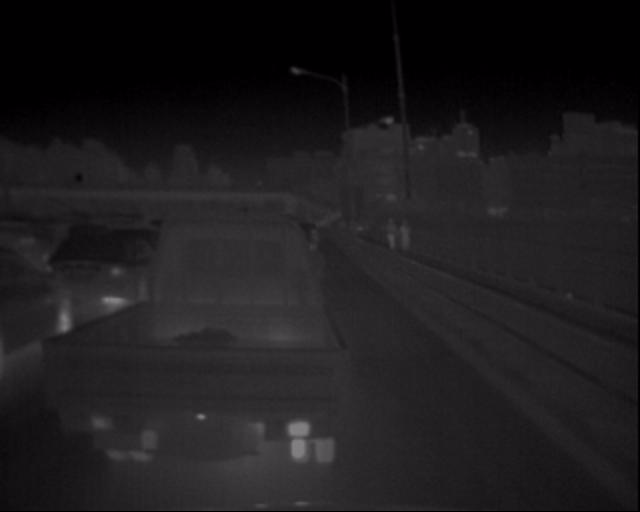person: (381, 210, 412, 256)
